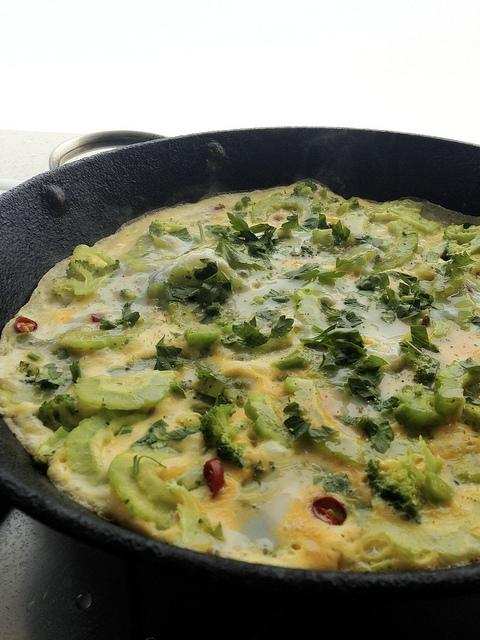broccoli: (63, 407, 150, 482), (68, 370, 181, 426), (50, 244, 121, 306), (391, 384, 448, 442), (199, 403, 247, 468), (243, 393, 296, 449), (434, 360, 480, 417), (360, 200, 441, 232), (380, 218, 418, 270), (250, 192, 313, 223), (398, 340, 440, 386), (292, 288, 330, 334), (36, 394, 78, 432), (189, 362, 230, 398), (443, 224, 480, 260), (182, 318, 222, 351), (422, 471, 456, 509), (68, 334, 135, 349), (452, 290, 476, 329), (168, 304, 205, 326), (149, 219, 186, 237), (339, 258, 366, 272), (313, 228, 334, 246), (301, 180, 318, 190), (300, 246, 312, 254), (312, 206, 323, 212)
